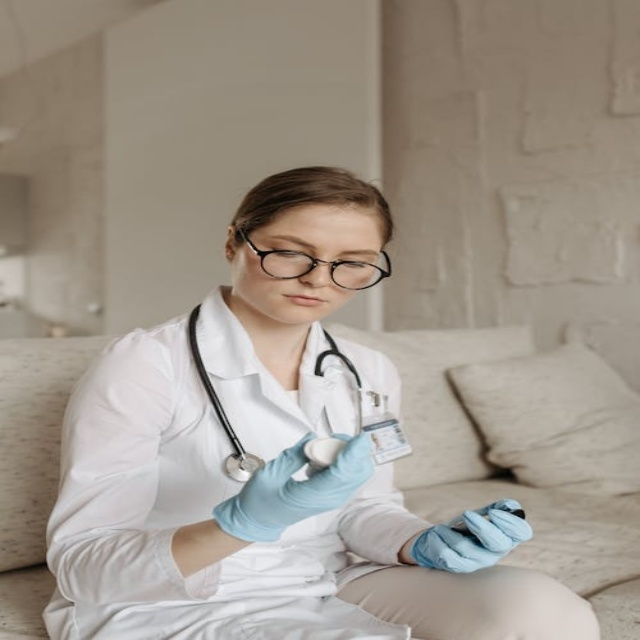Gafas: (233, 221, 397, 291)
Guantes: (212, 432, 374, 542), (407, 500, 533, 574)
Sin_mascara: (271, 291, 330, 320)
